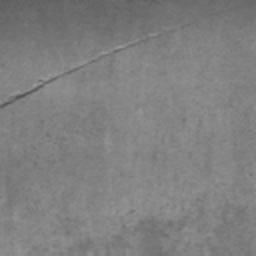Finishing roll printing: (0, 20, 188, 109)
